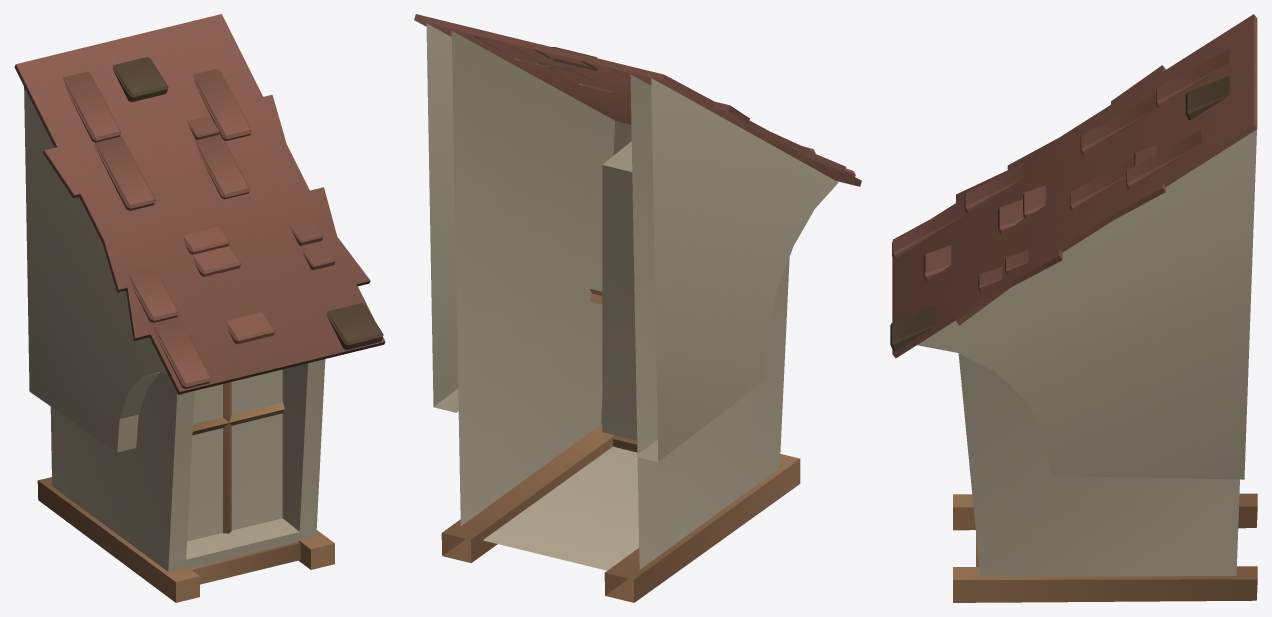
File: ZLP_Build_B_22.FBX
The picture shows the model from 3 angles, left to right: view 1: azimuth 30°, elevation 25°; view 2: azimuth 150°, elevation 25°; view 3: azimuth 270°, elevation 25°; orthographic projection. The views are drawn at different scales.
Visible parts, largest first — view 1: ZLP_Build_B_22; view 2: ZLP_Build_B_22; view 3: ZLP_Build_B_22.
Boxes of the visible parts, x1,y1,x2,y2 form: ZLP_Build_B_22: (14, 14, 385, 602); ZLP_Build_B_22: (414, 14, 861, 602); ZLP_Build_B_22: (890, 14, 1257, 602).
Size of the model in its own units: 142 by 256 by 174.
